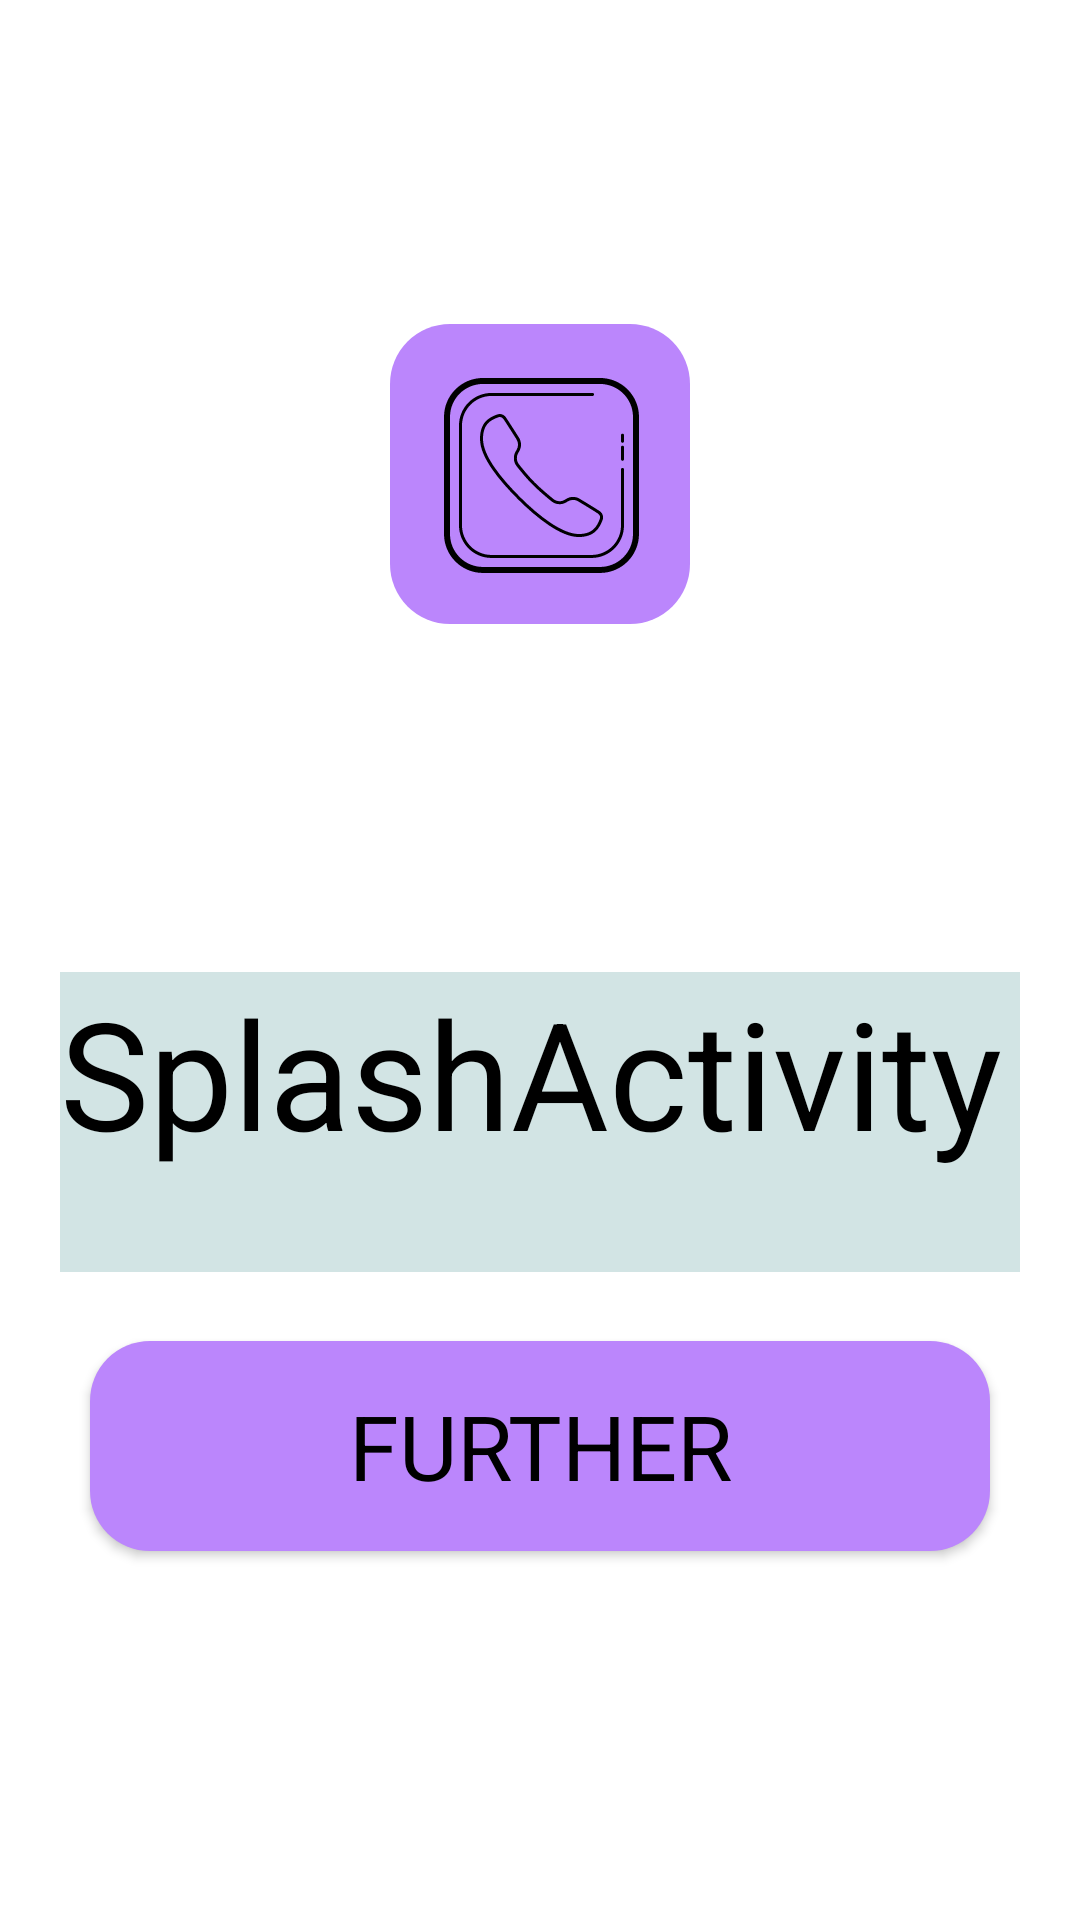

Icons on this 1080px x 1920px Android screen, each with the point to tap as [x,y]:
phone handset: [540,474]
